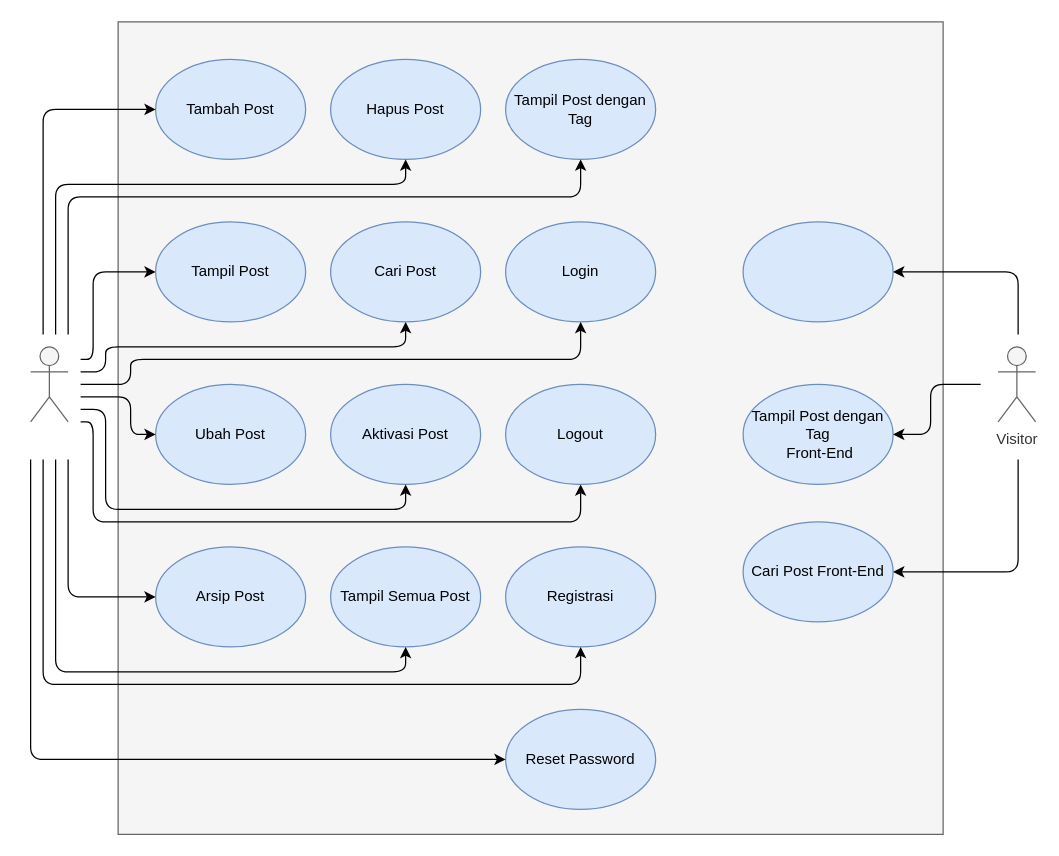
This 1059x856 diagram has some shape labels left out. Here are the shapes that lost their labels. From the top down, the centre of each, then its label:
(x=817, y=271): Tampil Post Front-End
(x=48, y=384): Admin
